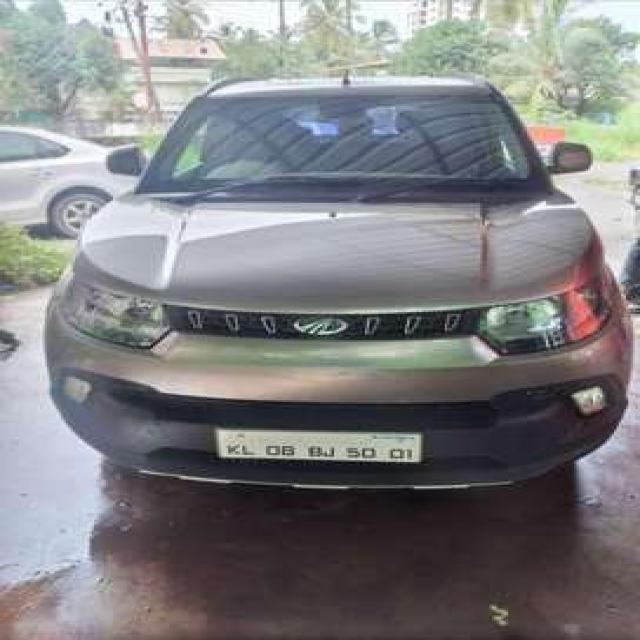Plate: (215, 426, 420, 459)
